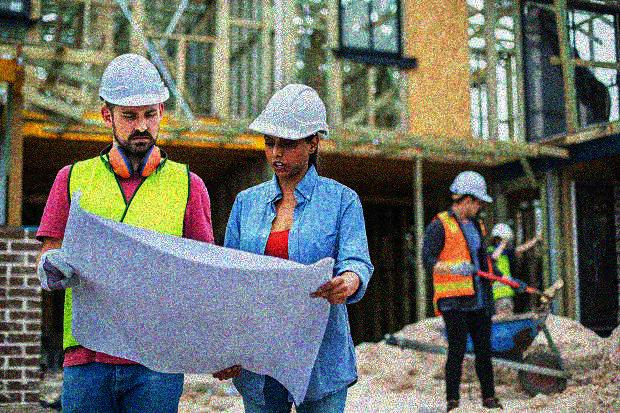helmet: (94, 52, 170, 156), (249, 83, 329, 177), (447, 170, 492, 219), (491, 222, 517, 250)
